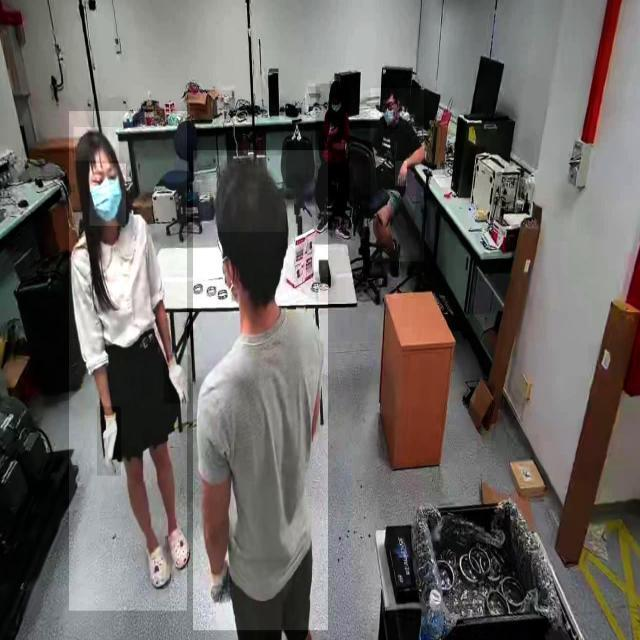gloves: (96, 406, 122, 476), (164, 354, 192, 404)
